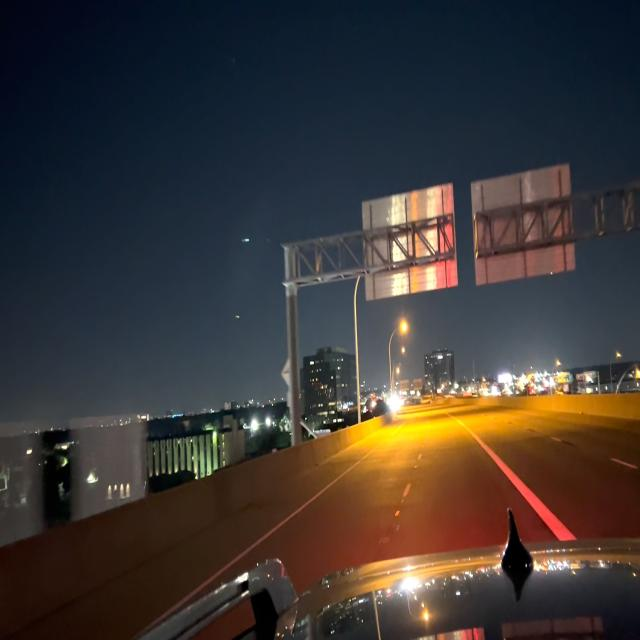back-of-sign: (469, 163, 576, 294), (362, 184, 460, 304)
